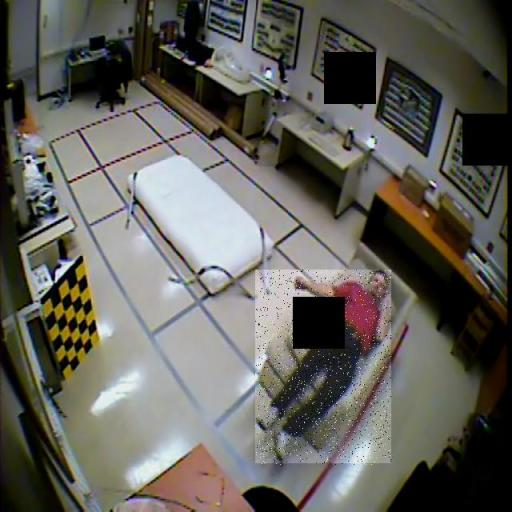Fall: (255, 271, 391, 466)
